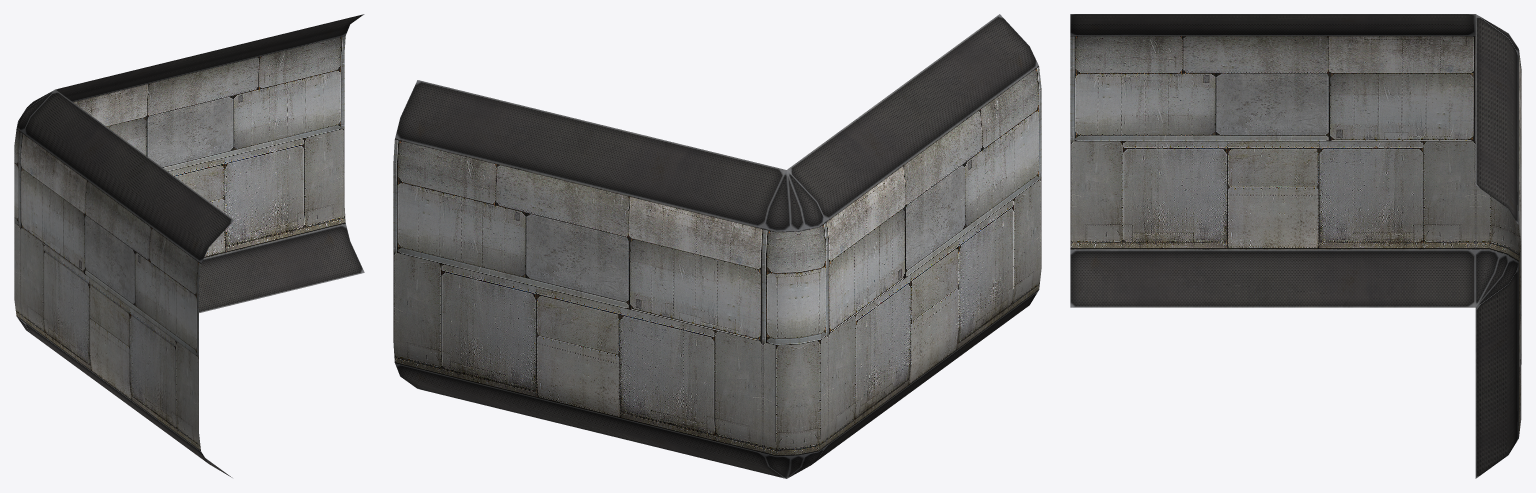
Rendered from Wall_B_Mid4mts_01.fbx.
3 renders of one model, left to right at view 1: azimuth 30°, elevation 25°; view 2: azimuth 150°, elevation 25°; view 3: azimuth 270°, elevation 25°, orthographic. The views are drawn at different scales.
Visible parts, largest first — view 1: Wall_B_Mid4mts_01; view 2: Wall_B_Mid4mts_01; view 3: Wall_B_Mid4mts_01.
Boxes of the visible parts, x1,y1,x2,y2 form: Wall_B_Mid4mts_01: (14, 14, 364, 477); Wall_B_Mid4mts_01: (393, 14, 1041, 478); Wall_B_Mid4mts_01: (1070, 14, 1521, 478).
Bounding box in the file's own units: 557 × 400 × 557.
Materials: 1 (1 with a texture image).
